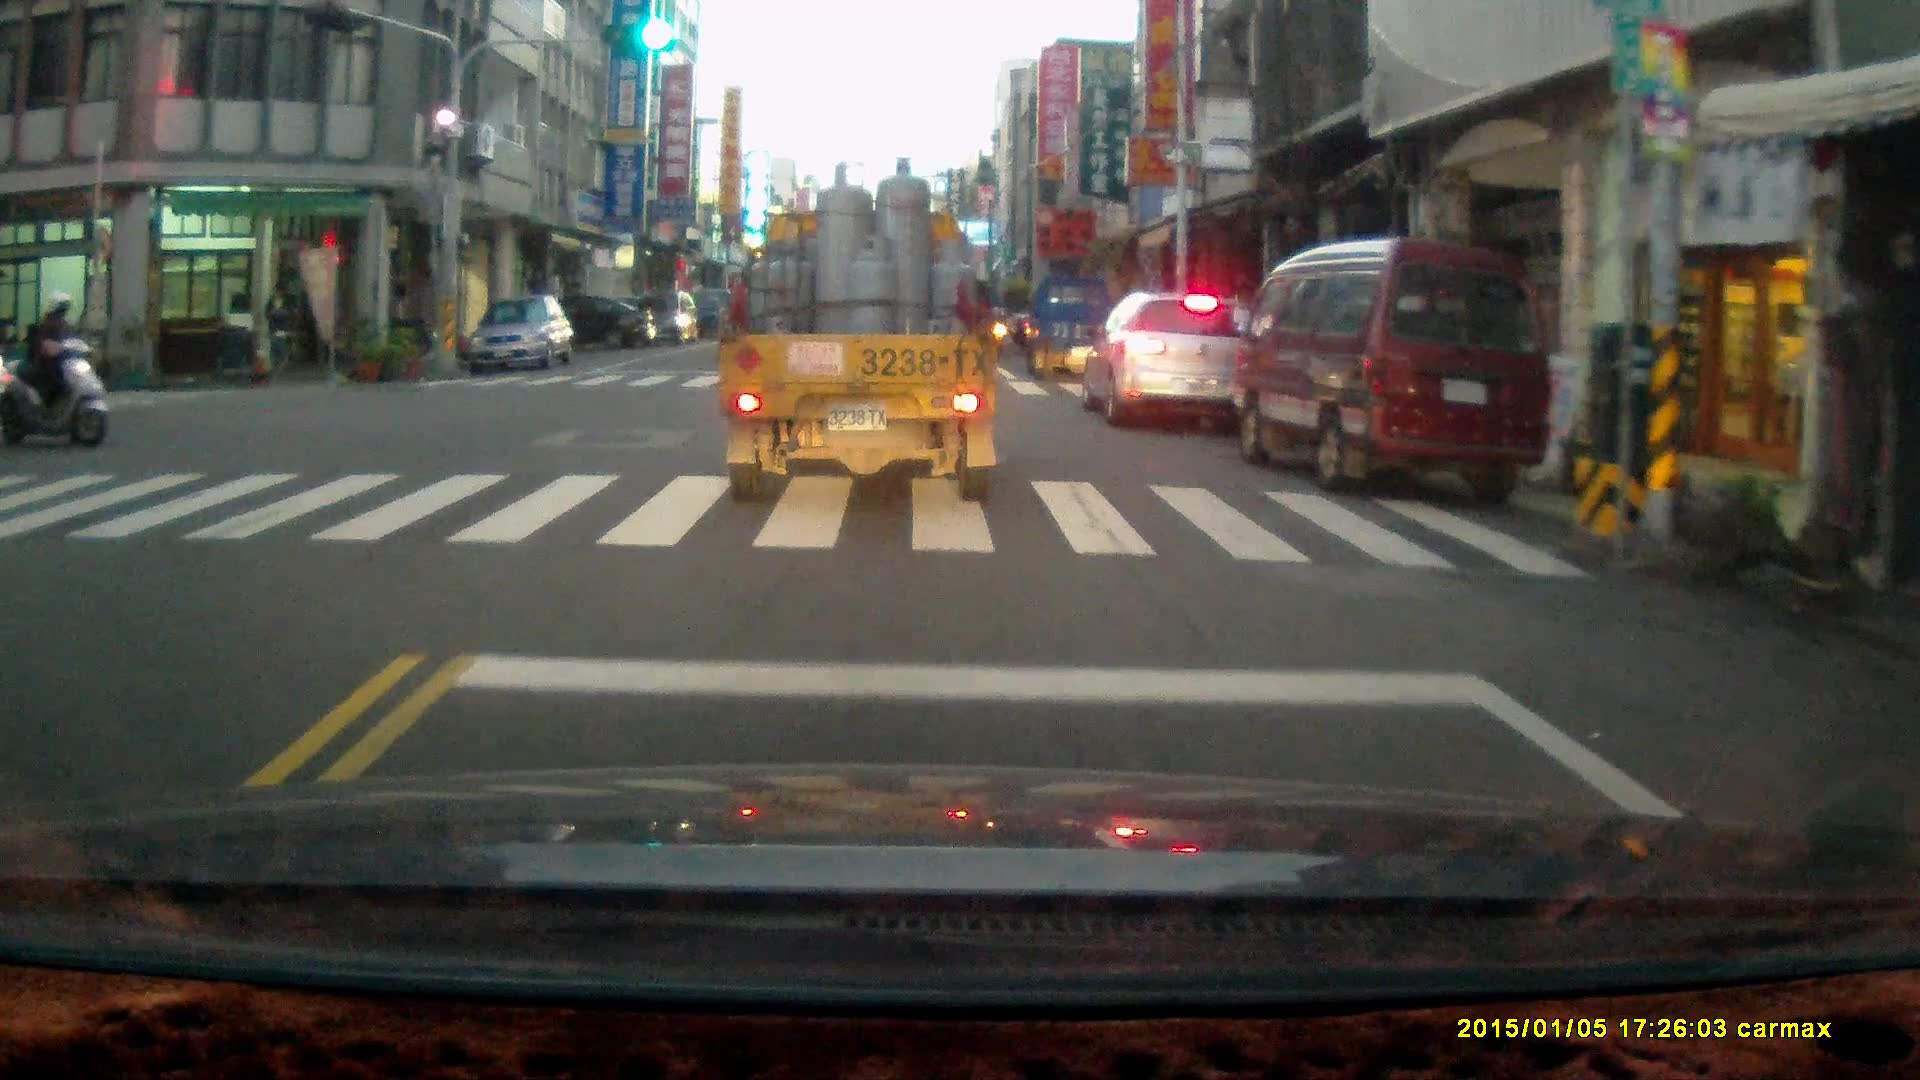pedestrian: (262, 276, 296, 384)
rider: (5, 293, 112, 450)
vehicle: (721, 162, 999, 511), (1240, 243, 1555, 509), (1078, 289, 1269, 443), (1028, 277, 1130, 393), (511, 296, 652, 359), (469, 300, 578, 378), (621, 288, 695, 347)
